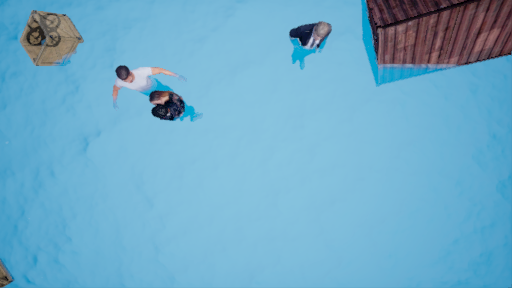person: (116, 62, 199, 130), (283, 18, 333, 78)
